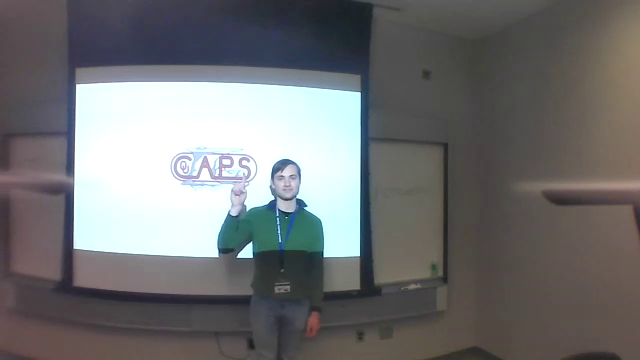up: (226, 171, 253, 204)
